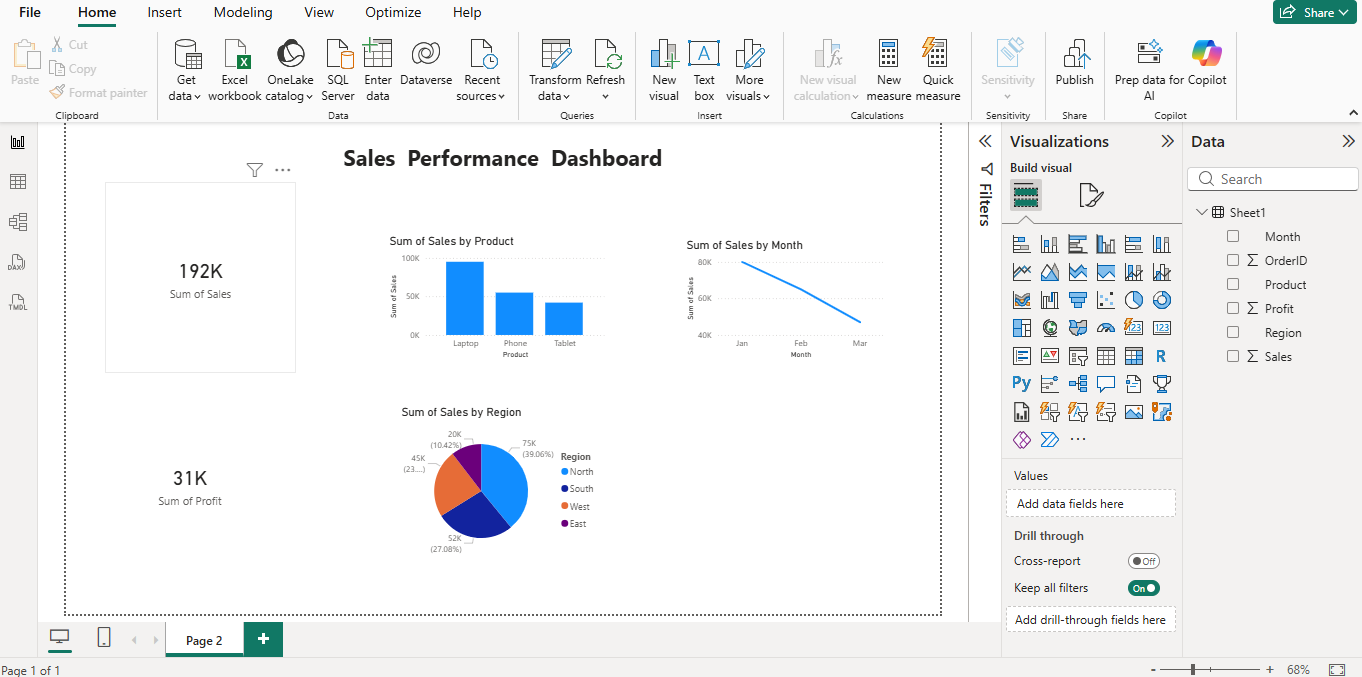

This screenshot's page, from the dashboard's own definition file:
{"tool":"powerbi","page":{"name":"Page 2","canvas":[1280,720],"ordinal":0},"visuals":[{"type":"card","fields":{"Values":["Sum(Sheet1.Sales)"]},"box":[57.4,88.2,279.4,279.4],"z":0},{"type":"card","fields":{"Values":["Sum(Sheet1.Profit)"]},"box":[41.2,391.2,280.9,279.4],"z":1000},{"type":"clusteredColumnChart","fields":{"Y":["Sum(Sheet1.Sales)"],"Category":["Sheet1.Product"]},"box":[467.6,163.2,325,186.8],"z":2000},{"type":"pieChart","fields":{"Category":["Sheet1.Region"],"Y":["Sum(Sheet1.Sales)"]},"box":[485.3,414.7,307.4,230.9],"z":2001},{"type":"lineChart","fields":{"Category":["Sheet1.Month"],"Y":["Sum(Sheet1.Sales)"]},"box":[902.9,169.1,298.5,180.9],"z":2002},{"type":"textbox","box":[386.8,25,505.9,63.2],"z":2003}]}

Visuals, with their boxes in screenshot pixels (x1, y1, x2, y2):
card - Sum(Sheet1.Sales): 229,78,498,347
card - Sum(Sheet1.Profit): 213,369,484,638
clusteredColumnChart - Sum(Sheet1.Sales) x Sheet1.Product: 624,150,936,330
pieChart - Sheet1.Region x Sum(Sheet1.Sales): 641,392,936,614
lineChart - Sheet1.Month x Sum(Sheet1.Sales): 1042,156,1330,330
textbox: 546,17,1033,78
